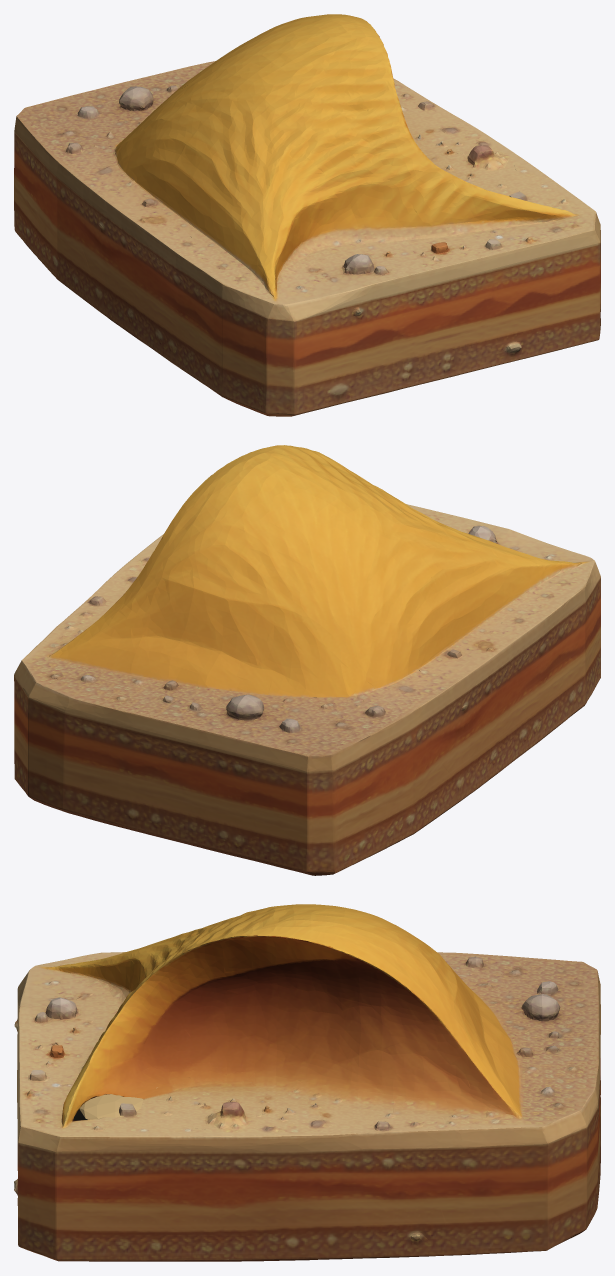
The picture shows the model from 3 angles, top to bottom: view 1: azimuth 30°, elevation 25°; view 2: azimuth 150°, elevation 25°; view 3: azimuth 270°, elevation 25°; orthographic projection. The views are drawn at different scales.
Parts seen in each view (by area): view 1: geometry_0; view 2: geometry_0; view 3: geometry_0.
Part boxes in pixels (x1,y1,x2,y2): geometry_0: (14, 14, 600, 416); geometry_0: (14, 445, 600, 875); geometry_0: (14, 904, 600, 1261).
Bounding box in the file's own units: 6.11 × 4.09 × 8.
1 material, 1 textured.
